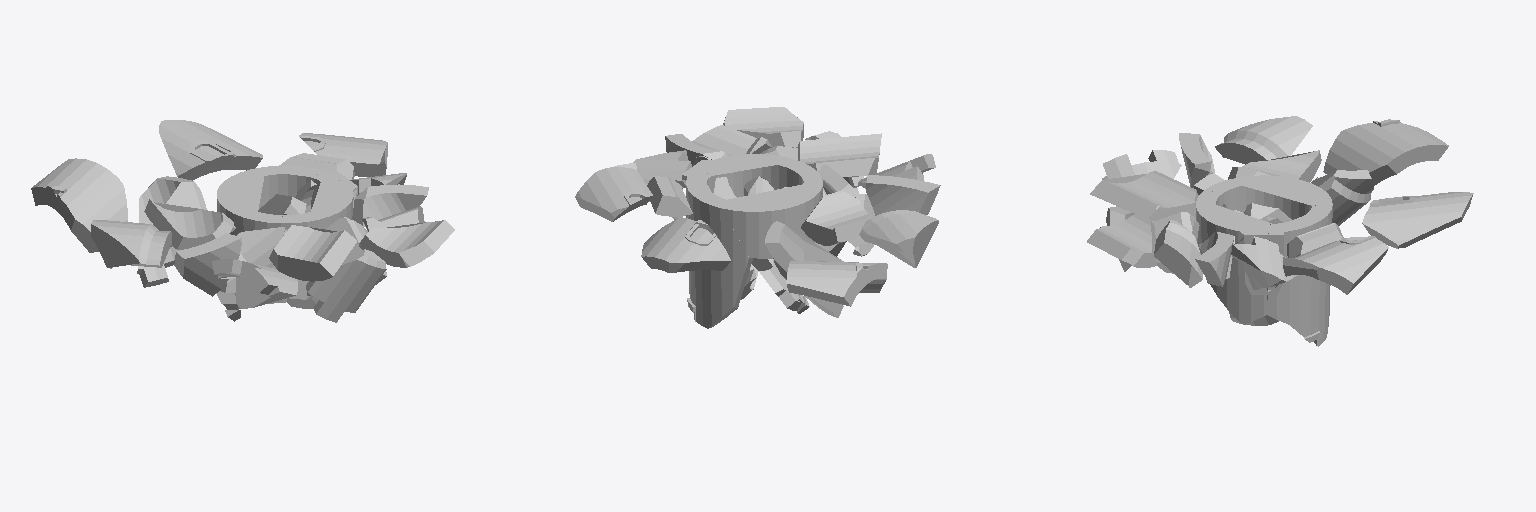
The model's file is destruction_tower_000074.obj.
3 views of the same model, side by side, from view 1: azimuth 30°, elevation 25°; view 2: azimuth 150°, elevation 25°; view 3: azimuth 270°, elevation 25° (orthographic).
Parts seen in each view (by area): view 1: tower.001_cell.003_Mesh.003, tower.001_cell.025_Mesh.025, tower.001_cell.024_Mesh.024, tower.001_cell.011_Mesh.011, tower.001_cell.005_Mesh.005, tower.001_cell.021_Mesh.021, tower.001_cell.009_Mesh.009, tower.001_cell.006_Mesh.006, tower.001_cell.007_Mesh.007, tower.001_cell.012_Mesh.012, tower.001_cell.002_Mesh.002, tower.001_cell.010_Mesh.010 (+10 smaller); view 2: tower.001_cell.017_Mesh.017, tower.001_cell.015_Mesh.015, tower.001_cell.025_Mesh.025, tower.001_cell.003_Mesh.003, tower.001_cell.012_Mesh.012, tower.001_cell.005_Mesh.005, tower.001_cell.024_Mesh.024, tower.001_cell.028_Mesh.028, tower.001_cell.009_Mesh.009, tower.001_cell.021_Mesh.021, tower.001_cell.002_Mesh.002, tower.001_cell.007_Mesh.007 (+8 smaller); view 3: tower.001_cell.003_Mesh.003, tower.001_cell.025_Mesh.025, tower.001_cell.012_Mesh.012, tower.001_cell.024_Mesh.024, tower.001_cell.017_Mesh.017, tower.001_cell.005_Mesh.005, tower.001_cell.015_Mesh.015, tower.001_cell.021_Mesh.021, tower.001_cell.020_Mesh.020, tower.001_cell.028_Mesh.028, tower.001_cell_Mesh, tower.001_cell.007_Mesh.007 (+9 smaller).
Part boxes in pixels (x1,y1,x2,y2): tower.001_cell.003_Mesh.003: (31, 158, 127, 252); tower.001_cell.025_Mesh.025: (159, 120, 262, 180); tower.001_cell.024_Mesh.024: (269, 225, 356, 281); tower.001_cell.011_Mesh.011: (306, 249, 386, 322); tower.001_cell.005_Mesh.005: (91, 220, 171, 268); tower.001_cell.021_Mesh.021: (359, 220, 454, 267); tower.001_cell.009_Mesh.009: (144, 199, 235, 249); tower.001_cell.006_Mesh.006: (212, 259, 297, 308); tower.001_cell.007_Mesh.007: (137, 176, 206, 287); tower.001_cell.012_Mesh.012: (299, 133, 387, 176); tower.001_cell.002_Mesh.002: (174, 233, 241, 296); tower.001_cell.010_Mesh.010: (352, 184, 428, 226); tower.001_cell.017_Mesh.017: (686, 179, 752, 328); tower.001_cell.015_Mesh.015: (723, 184, 821, 258); tower.001_cell.025_Mesh.025: (641, 218, 730, 272); tower.001_cell.003_Mesh.003: (786, 260, 887, 306); tower.001_cell.012_Mesh.012: (575, 163, 652, 221); tower.001_cell.005_Mesh.005: (859, 210, 938, 267); tower.001_cell.024_Mesh.024: (798, 133, 881, 176); tower.001_cell.028_Mesh.028: (701, 154, 811, 197); tower.001_cell.009_Mesh.009: (801, 190, 870, 245); tower.001_cell.021_Mesh.021: (723, 107, 803, 147); tower.001_cell.002_Mesh.002: (866, 175, 940, 215); tower.001_cell.007_Mesh.007: (765, 221, 843, 317); tower.001_cell.003_Mesh.003: (1323, 119, 1448, 185); tower.001_cell.025_Mesh.025: (1362, 192, 1473, 248); tower.001_cell.012_Mesh.012: (1283, 236, 1388, 294); tower.001_cell.024_Mesh.024: (1090, 171, 1198, 221); tower.001_cell.017_Mesh.017: (1289, 203, 1332, 346); tower.001_cell.005_Mesh.005: (1215, 116, 1312, 164); tower.001_cell.015_Mesh.015: (1242, 175, 1331, 219); tower.001_cell.021_Mesh.021: (1087, 211, 1156, 267); tower.001_cell.020_Mesh.020: (1210, 230, 1269, 323); tower.001_cell.028_Mesh.028: (1196, 191, 1271, 254); tower.001_cell_Mesh: (1154, 220, 1202, 287); tower.001_cell.007_Mesh.007: (1311, 170, 1373, 225).
Bounding box in the file's own units: 113 × 44.66 × 121.